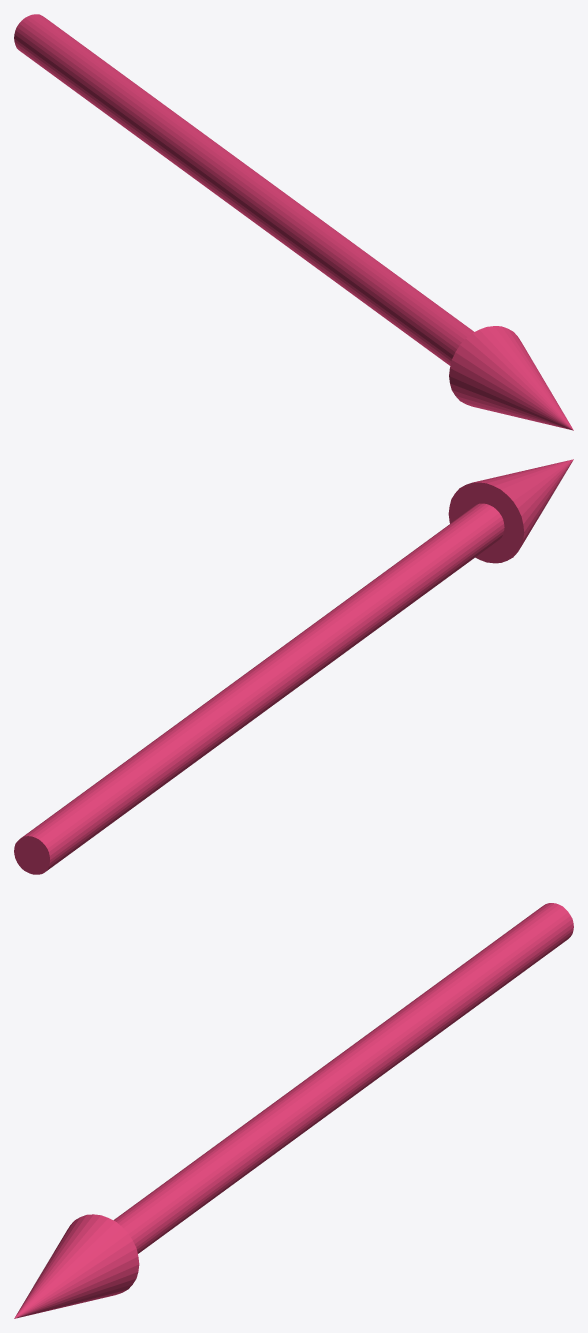
The model's file is Axis_NO2.gltf.
3 renders of one model, top to bottom at view 1: azimuth 30°, elevation 25°; view 2: azimuth 150°, elevation 25°; view 3: azimuth 330°, elevation 25°, orthographic.
Visible parts, largest first — view 1: Eje_Cono.005; view 2: Eje_Cono.005; view 3: Eje_Cono.005.
Part boxes in pixels (x1,y1,x2,y2): Eje_Cono.005: [14, 14, 573, 430]; Eje_Cono.005: [14, 459, 573, 874]; Eje_Cono.005: [14, 903, 573, 1318].
Size of the model in its own units: 0.1511 by 0.1511 by 1.87.
